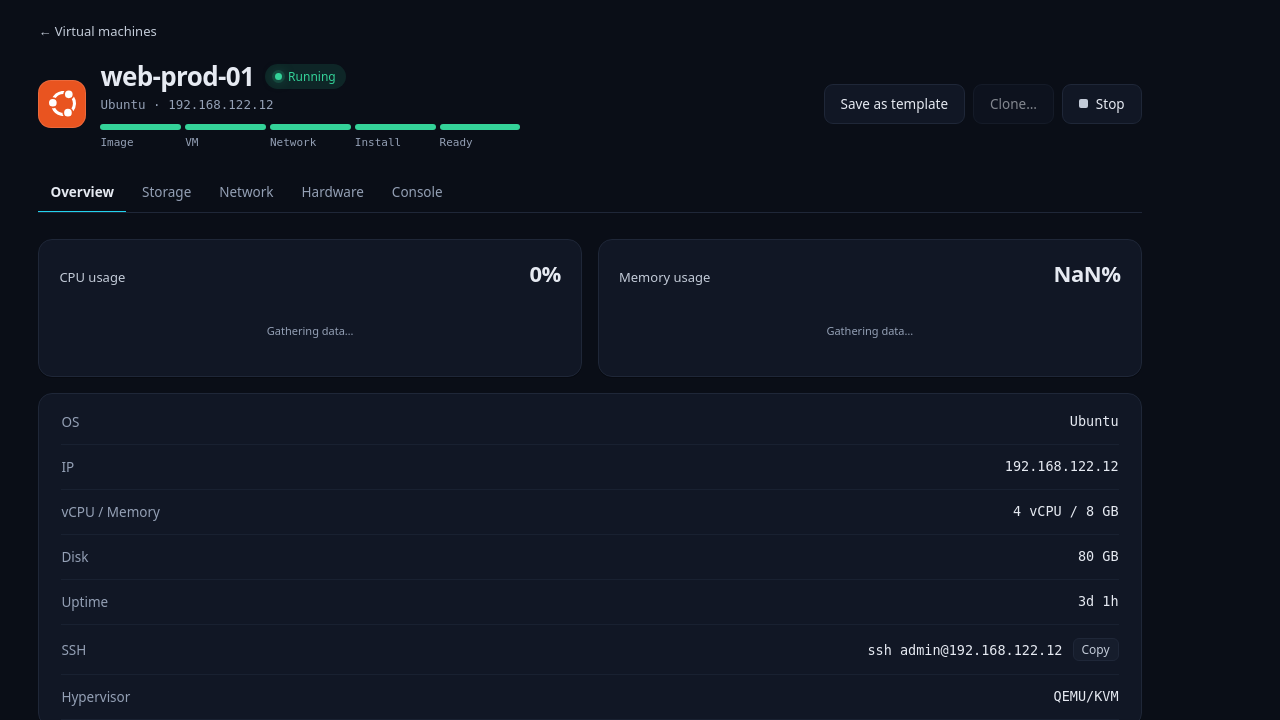
Test case: VMDetail › distinguishes a failed snapshot fetch from an empty snapshot list
Step 1. Click the tab "Storage" → (167,193), box [130, 173, 203, 213]
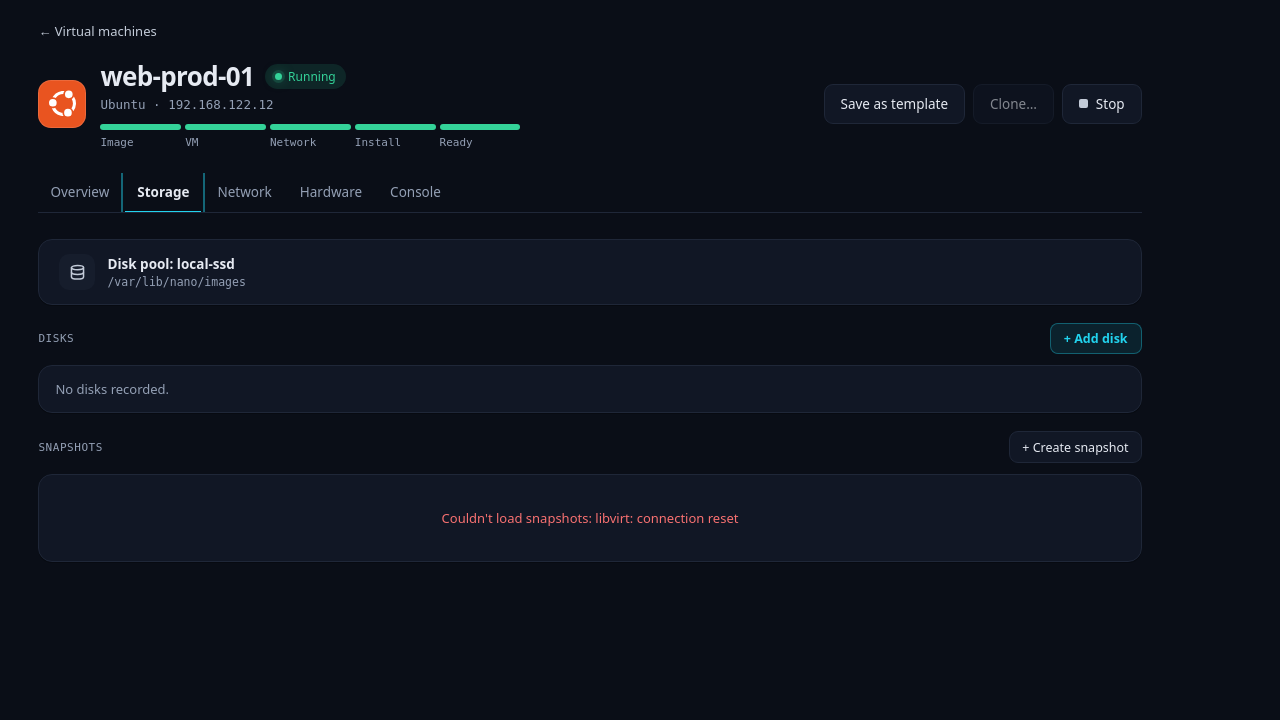
Expected: the message shows "libvirt: connection reset", [595, 509, 738, 527]
